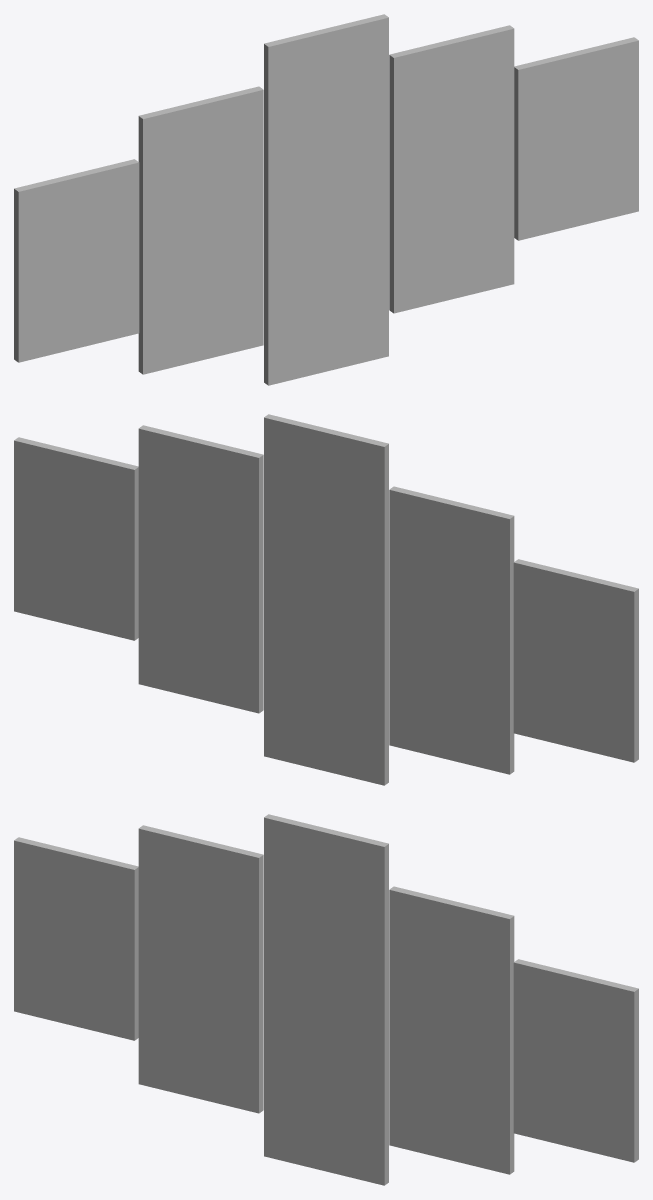
The model's file is PaintingFrame_13.fbx.
3 views of the same model, one above another, from view 1: azimuth 30°, elevation 25°; view 2: azimuth 150°, elevation 25°; view 3: azimuth 330°, elevation 25° (orthographic).
Parts seen in each view (by area): view 1: PaintingFrame_13; view 2: PaintingFrame_13; view 3: PaintingFrame_13.
Part boxes in pixels (x1=…): PaintingFrame_13: x1=14, y1=14, x2=638, y2=385; PaintingFrame_13: x1=14, y1=414, x2=638, y2=785; PaintingFrame_13: x1=14, y1=814, x2=638, y2=1185.
Bounding box in the file's own units: 1.76 × 0.9206 × 0.0228.
